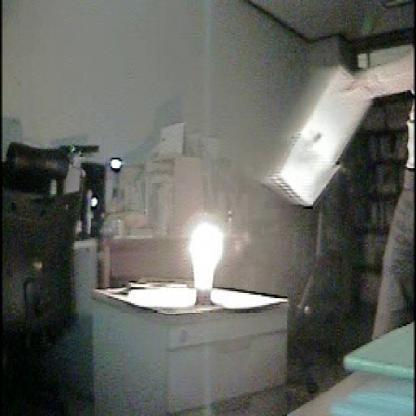fire: (166, 210, 245, 319)
